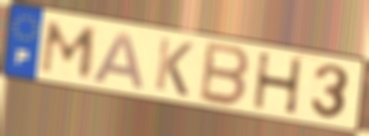3: (307, 63, 351, 122)
A: (89, 29, 147, 92)
B: (196, 39, 253, 109)
H: (252, 51, 306, 117)
K: (152, 35, 196, 99)
M: (37, 19, 101, 81)
